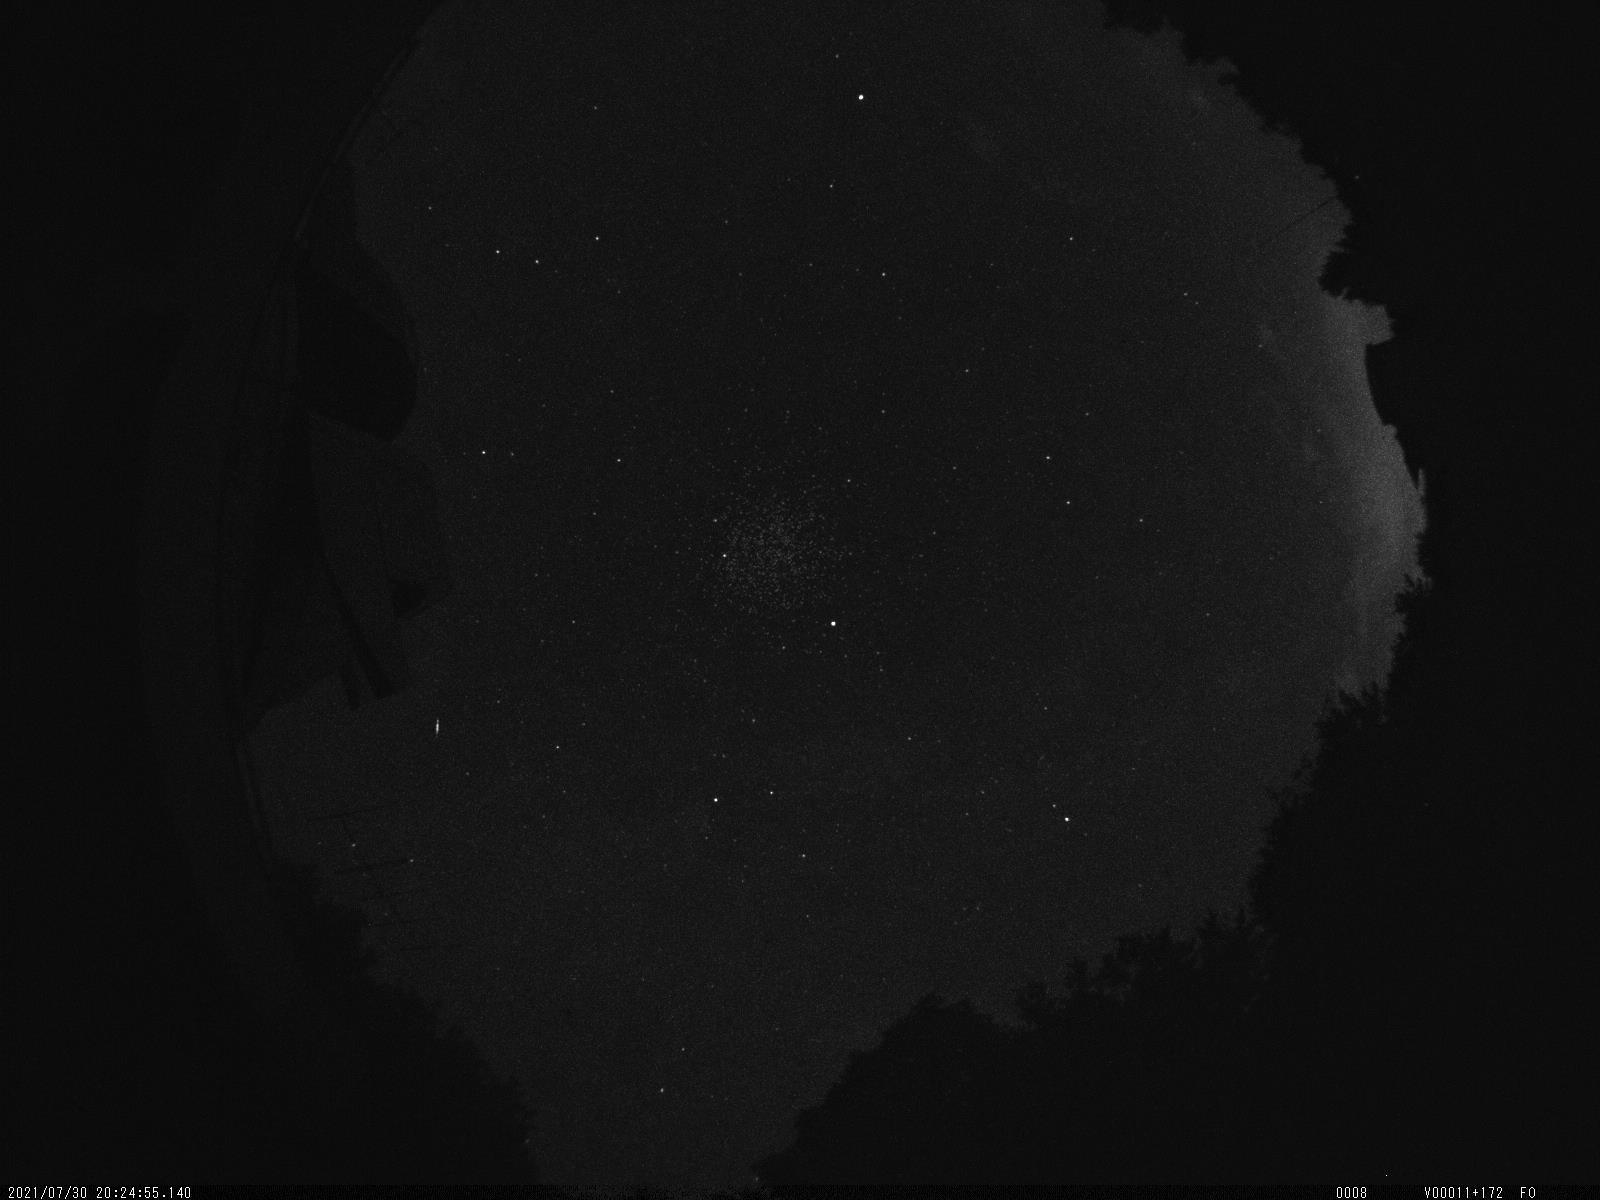Meteor: (426, 711, 447, 741)
